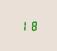eight: (28, 20, 36, 30)
one: (19, 20, 27, 31)
